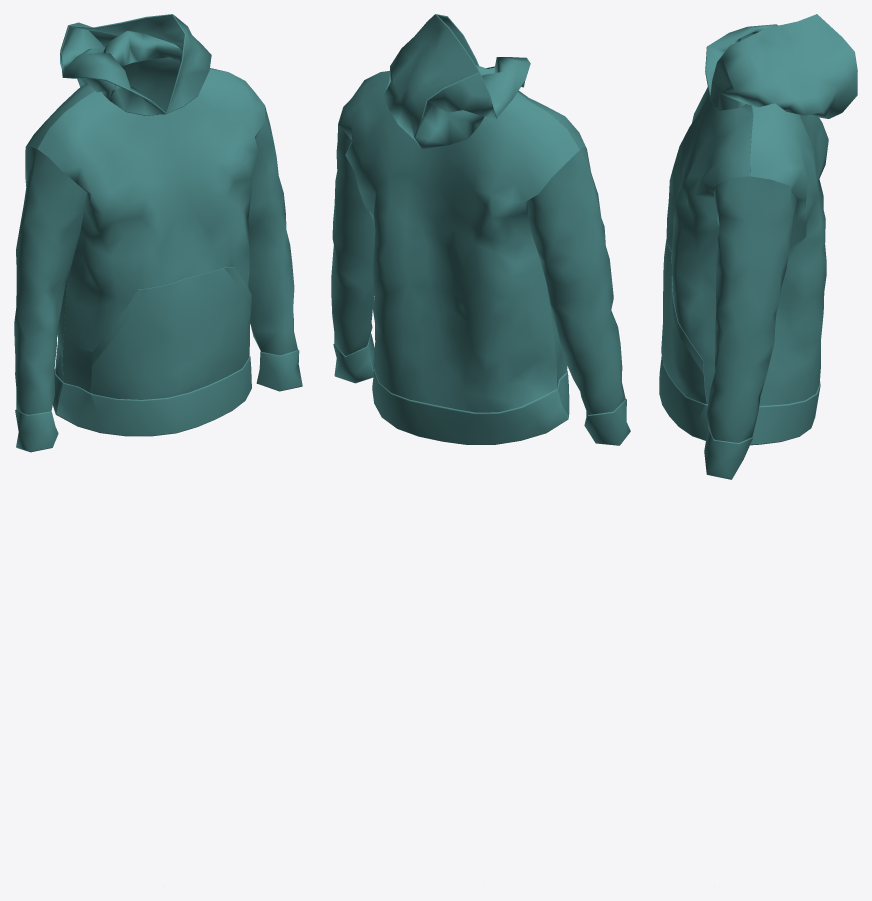
Rendered from sweater.fbx.
3 views of the same model, side by side, from view 1: azimuth 30°, elevation 25°; view 2: azimuth 150°, elevation 25°; view 3: azimuth 270°, elevation 25° (orthographic). The views are drawn at different scales.
Visible parts, largest first — view 1: sweater; view 2: sweater; view 3: sweater.
Part boxes in pixels (<box>): sweater: <box>14,14,302,886</box>; sweater: <box>331,14,630,886</box>; sweater: <box>659,14,857,886</box>.
Bounding box in the file's own units: 600 × 1746 × 363.
